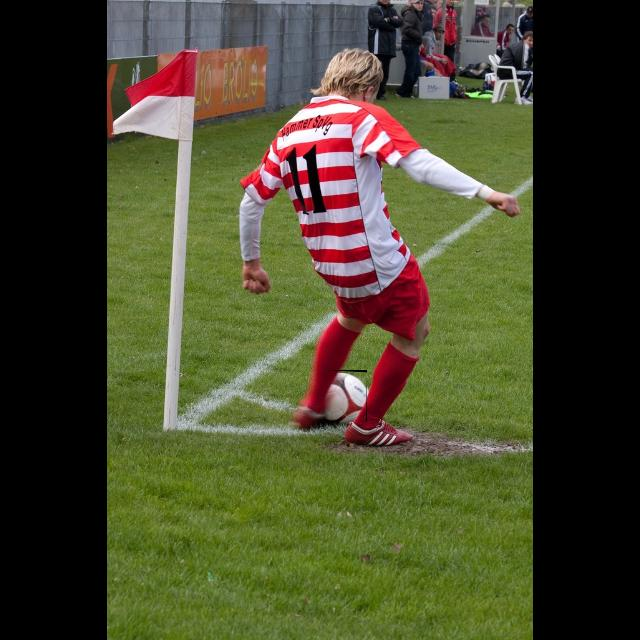Football: (325, 370, 367, 422)
